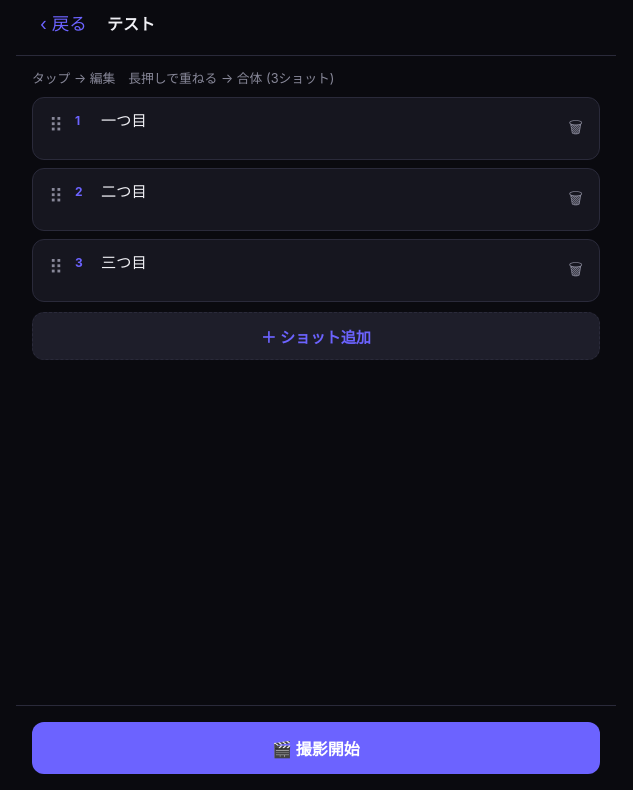
Test: ShotEditPage delete › saves a deletion and offers to undo it
Click the button named "削除": [576, 200] box x1=565 y1=183 x2=587 y2=218
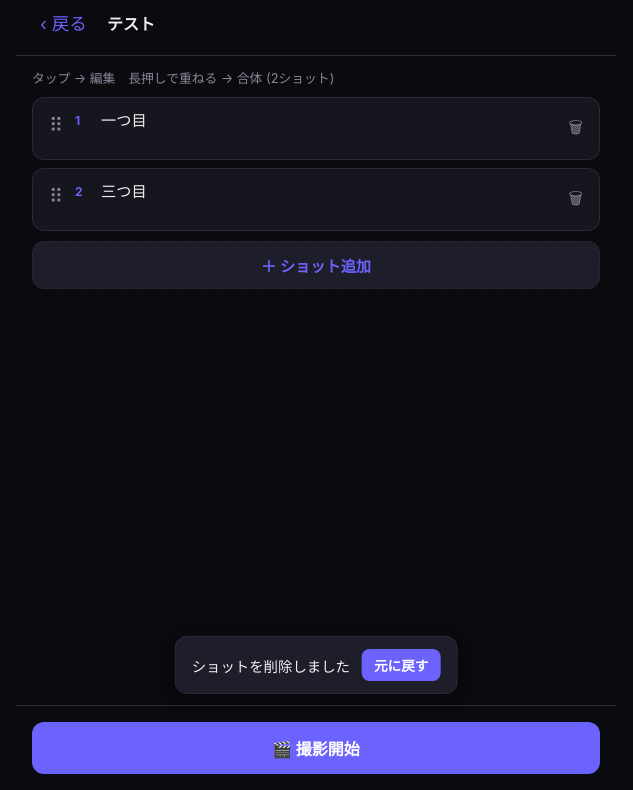
Click the button "元に戻す": [401, 665] box x1=362 y1=649 x2=440 y2=681
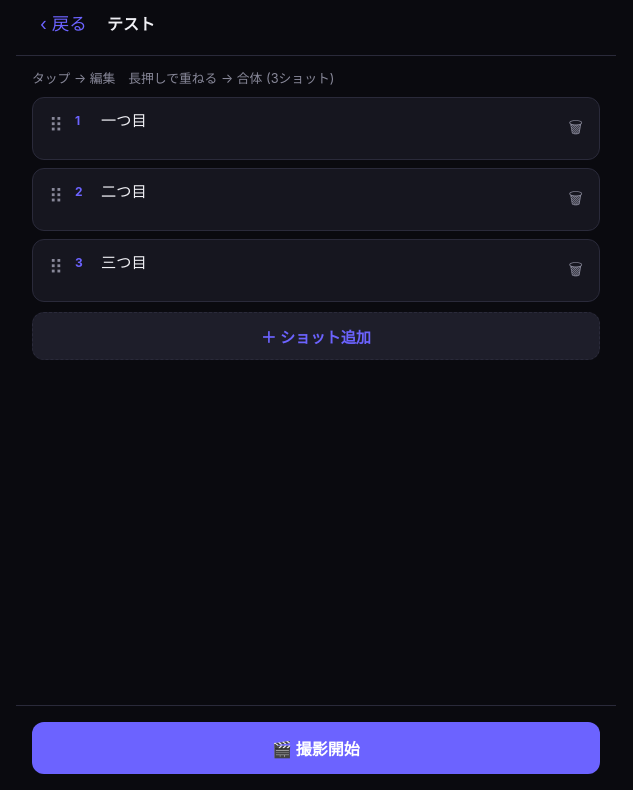
Check: the button "二つ目" is shown, box x1=101 y1=181 x2=557 y2=204
Check: the text "ショットを削除しました" is gone
